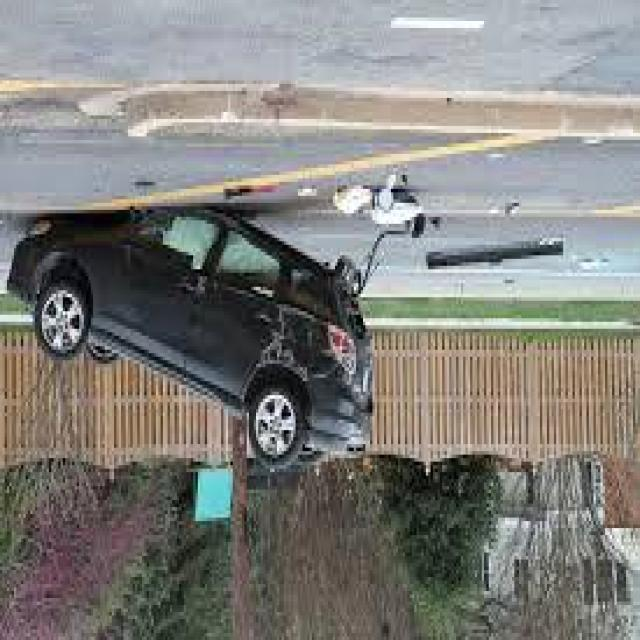severe: (4, 199, 374, 469)
